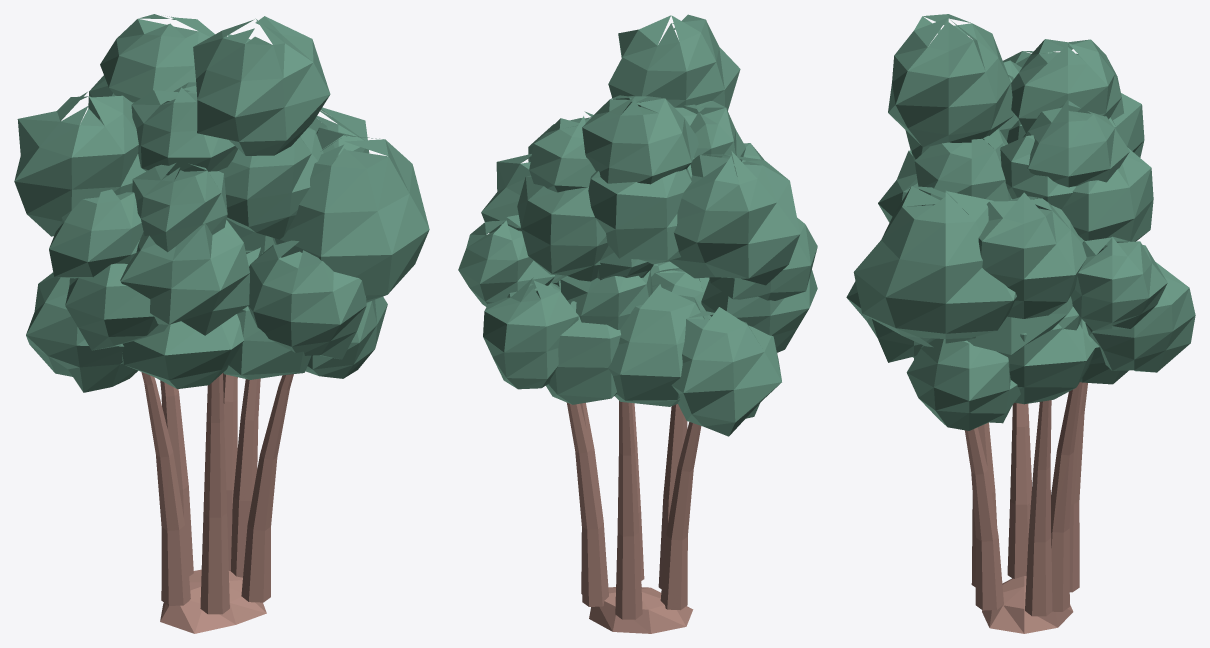
Rendered from temperate-forest-ecology-ancient-yew-2d535ab2__3807.glb.
3 renders of one model, left to right at view 1: azimuth 30°, elevation 25°; view 2: azimuth 150°, elevation 25°; view 3: azimuth 270°, elevation 25°, orthographic. The views are drawn at different scales.
Visible parts, largest first — view 1: ancient-yew; view 2: ancient-yew; view 3: ancient-yew.
Part boxes in pixels (<box>): ancient-yew: <box>14,14,429,633</box>; ancient-yew: <box>458,14,817,633</box>; ancient-yew: <box>846,14,1195,633</box>.
Size of the model in its own units: 7.58 by 12.97 by 6.89.
